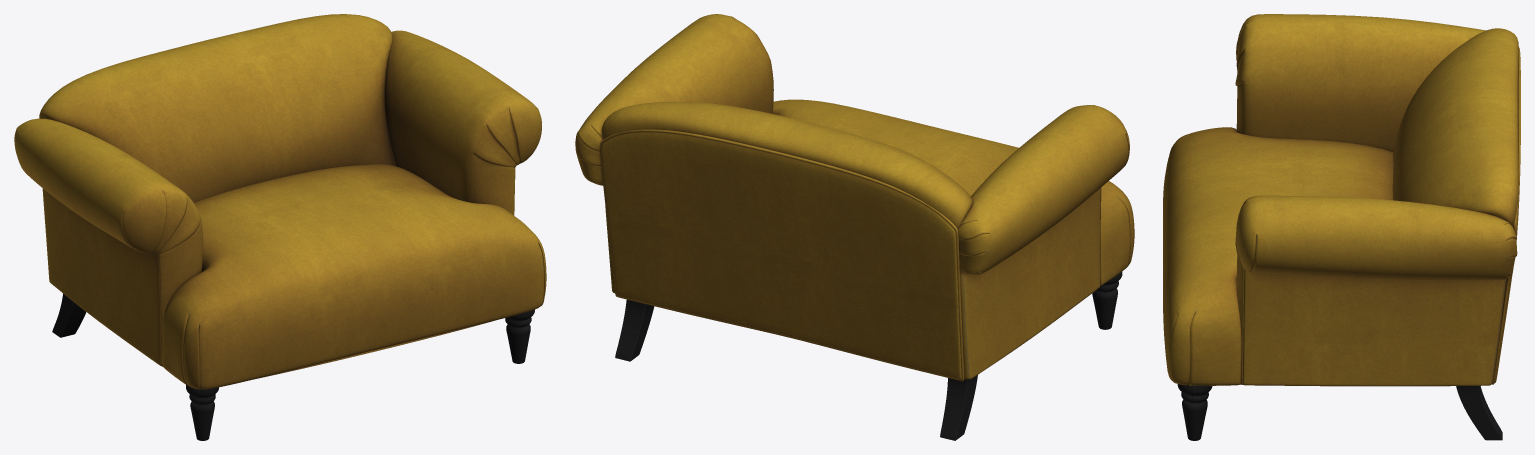
The model's file is claudia_loveseat_antique_gold_velvet.glb.
3 renders of one model, left to right at view 1: azimuth 30°, elevation 25°; view 2: azimuth 150°, elevation 25°; view 3: azimuth 270°, elevation 25°, orthographic. The views are drawn at different scales.
Parts seen in each view (by area): view 1: VELVET, LEGS; view 2: VELVET, LEGS; view 3: VELVET, LEGS.
Part boxes in pixels (<box>): VELVET: <box>14,14,546,389</box>; LEGS: <box>52,293,534,440</box>; VELVET: <box>575,14,1134,381</box>; LEGS: <box>615,271,1122,440</box>; VELVET: <box>1163,14,1520,386</box>; LEGS: <box>1177,384,1502,440</box>.
Size of what is drawn, in the model's own units: 66.34 by 38.48 by 46.61.
Materials: 2 (2 with a texture image).
